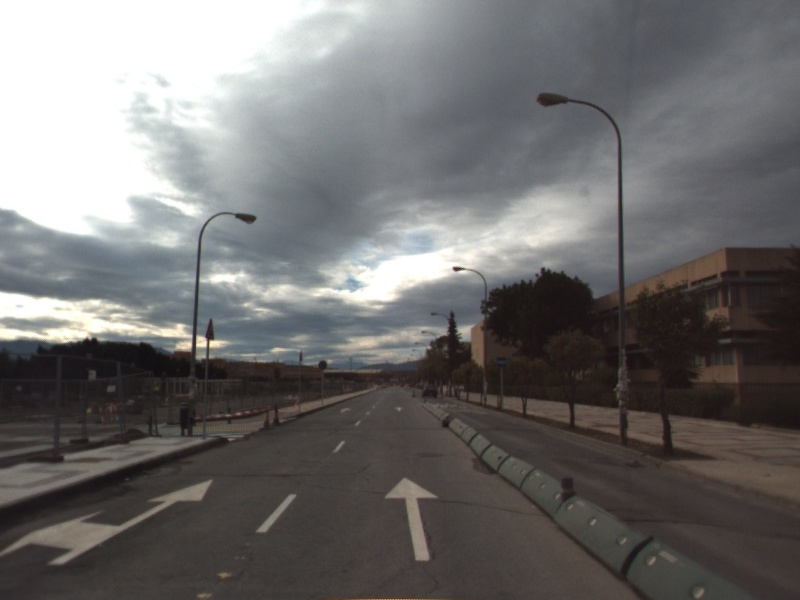STRAIGHT: (382, 475, 440, 563)
STRAIGHT_LEFT: (1, 476, 216, 568)
